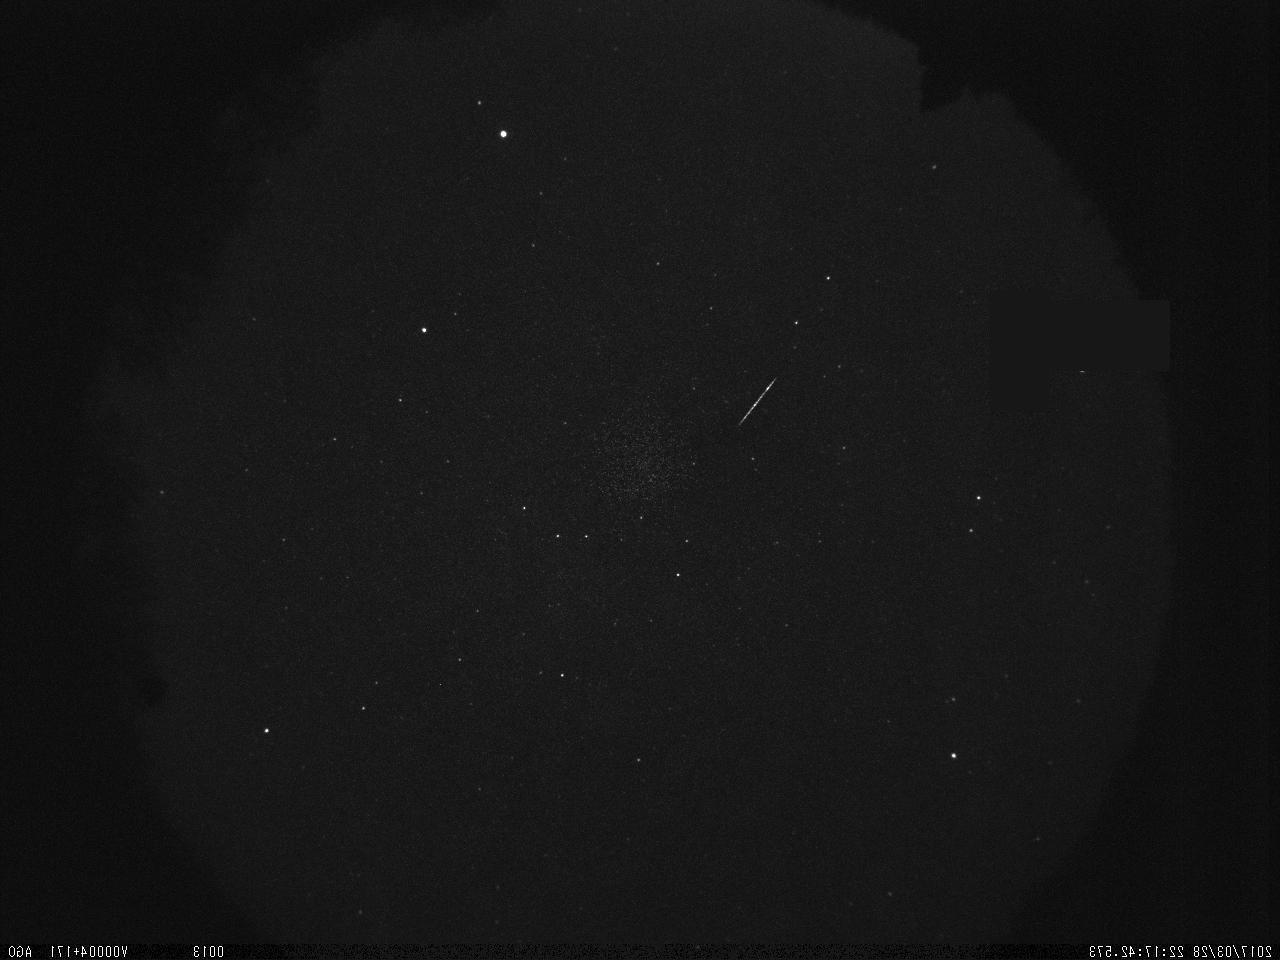meteor: (717, 361, 791, 436)
